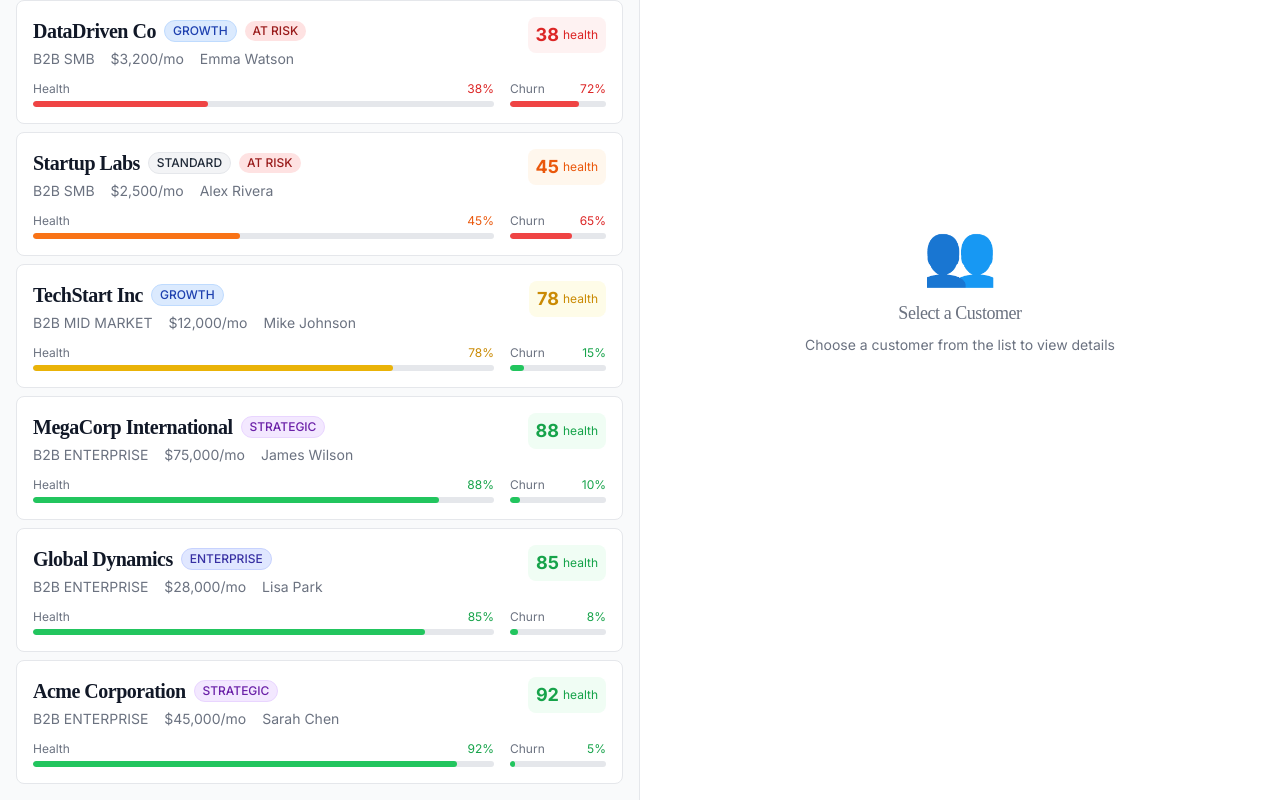
Test: CustomersView › shows primary contact when customer selected
(page scrolled)
// Click on a customer
What coordinates should you click on to do the following:
click the heading "Acme Corporation"
I would click on:
 (109, 691)
Its box is [33, 677, 186, 705].
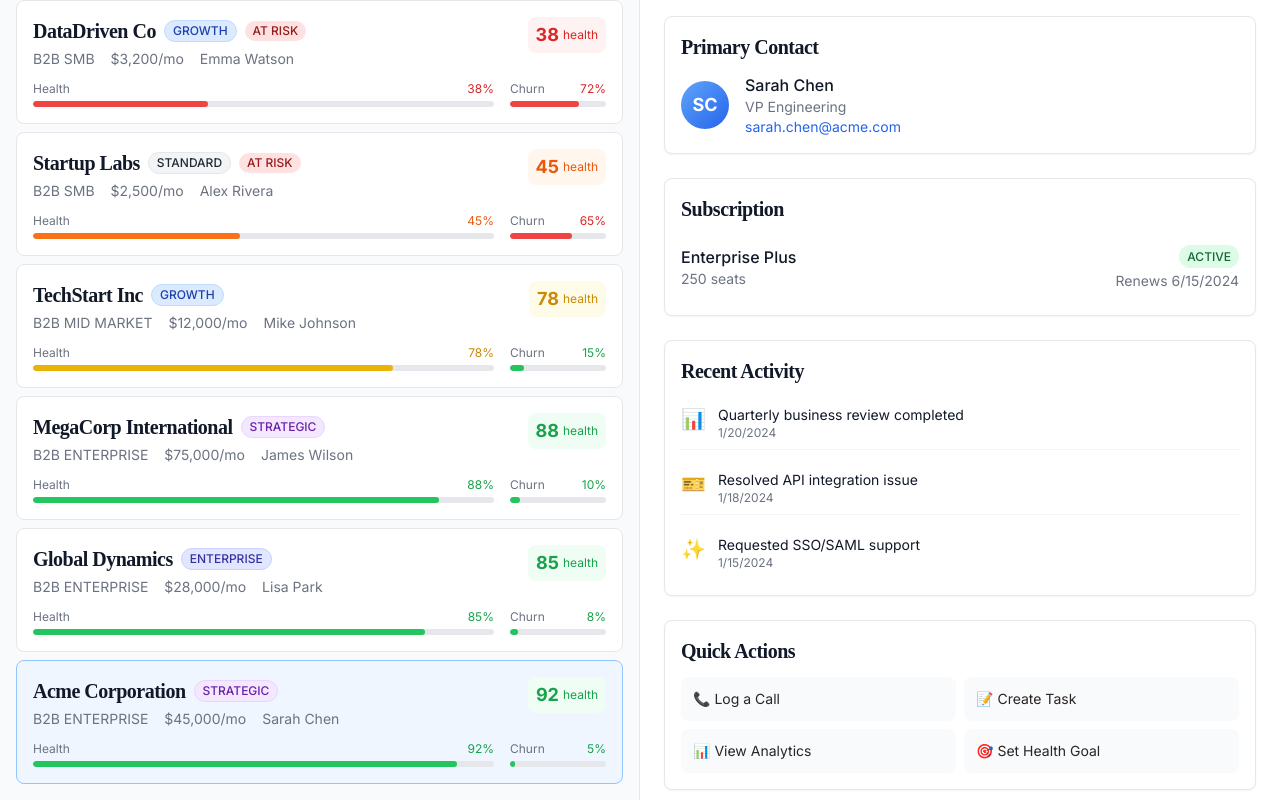
Expected: the text "Sarah Chen" in the row of "45,000" is shown, [262, 710, 339, 727]
Expected: the heading "Primary Contact" is shown, [681, 36, 818, 58]
